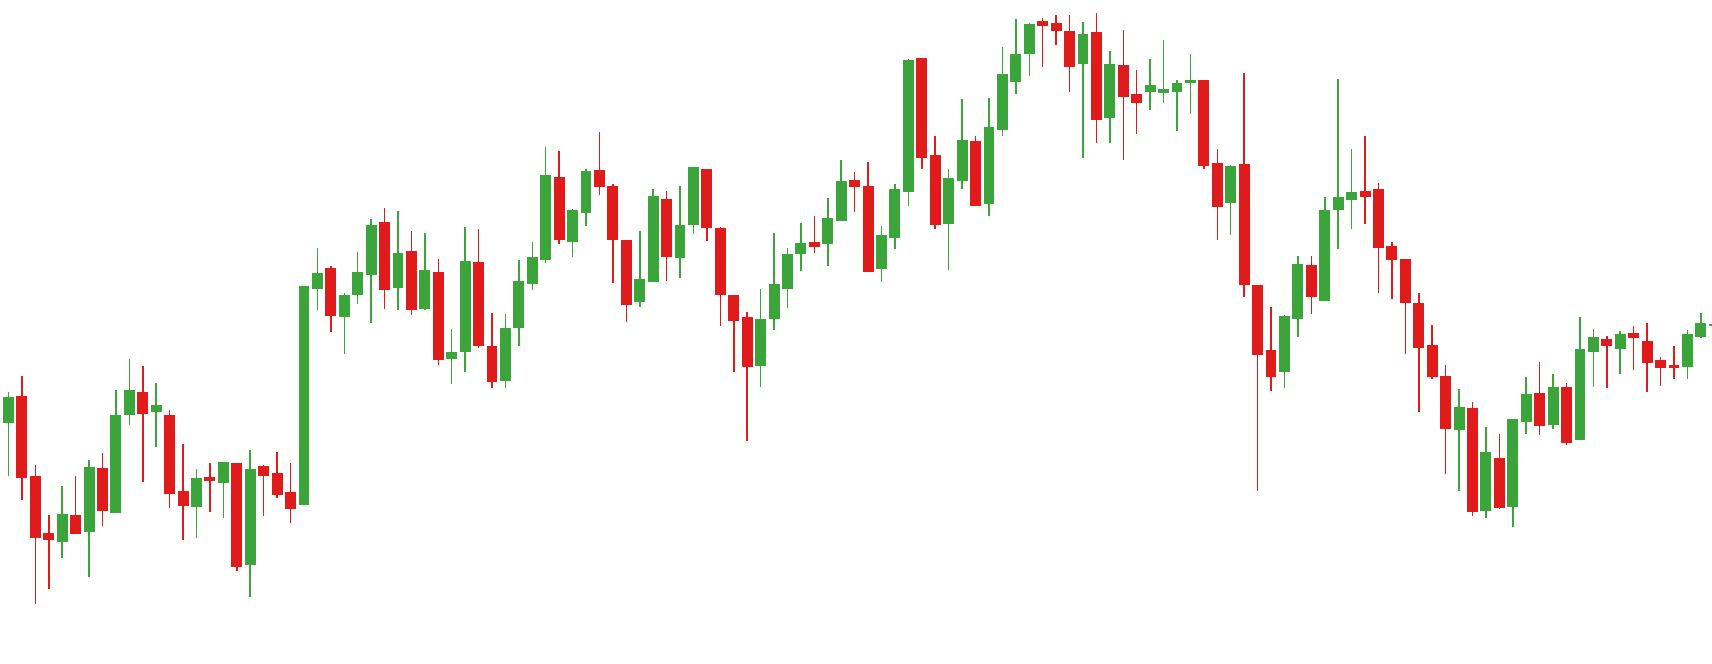buy: (487, 244, 754, 449), (175, 475, 258, 597)
sell: (902, 17, 1077, 149)
